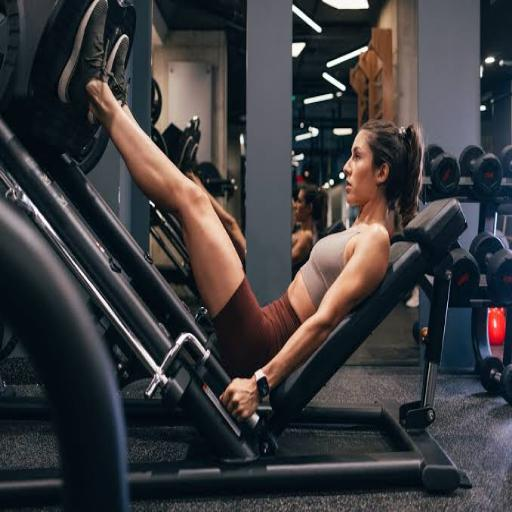Leg Press: (1, 50, 427, 384)
